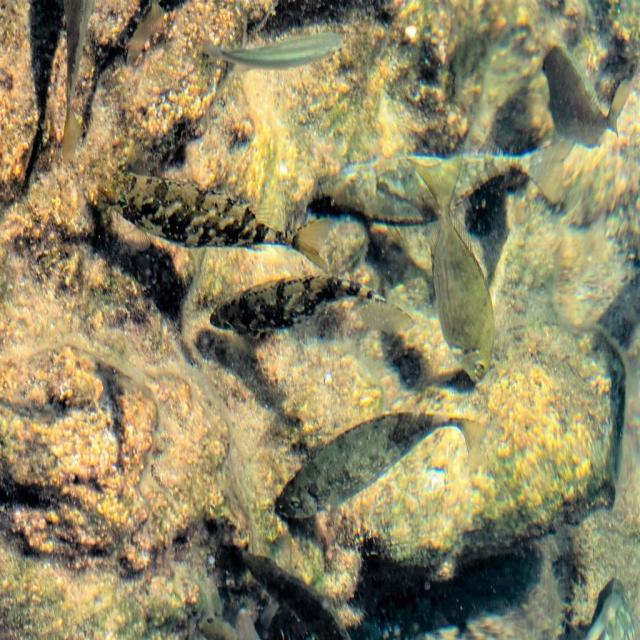Sokar Baligi: (258, 396, 502, 535), (398, 123, 511, 397)
